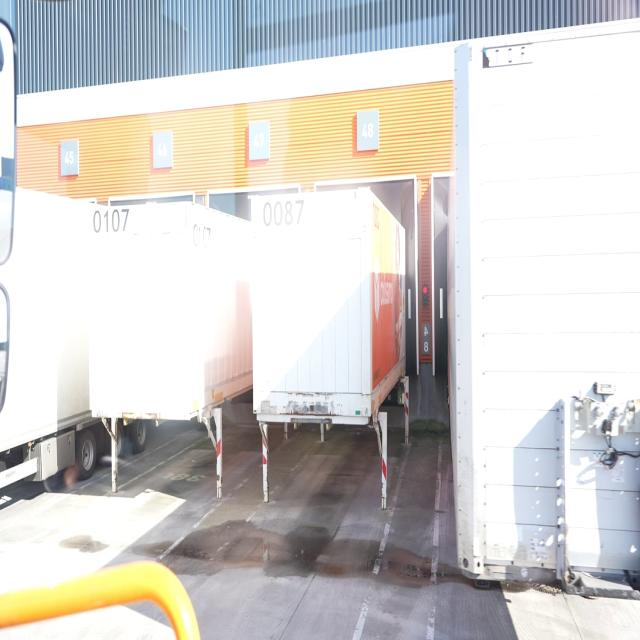Code: (258, 195, 308, 233), (91, 206, 130, 237)
